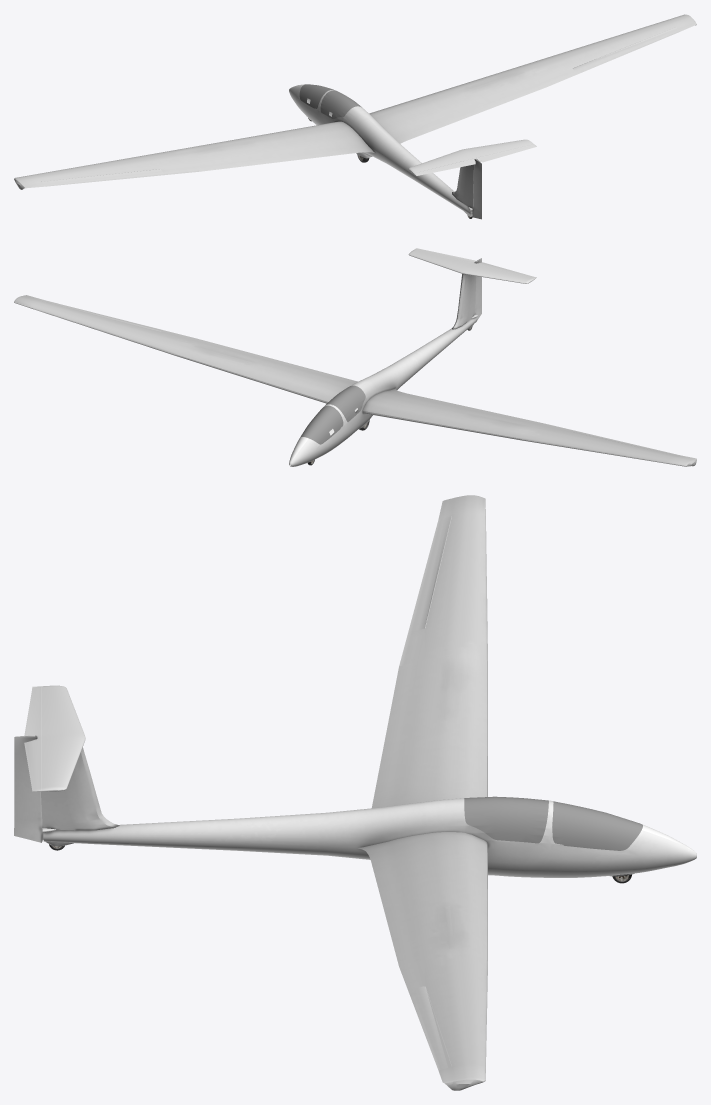
3 renders of one model, top to bottom at view 1: azimuth 30°, elevation 25°; view 2: azimuth 150°, elevation 25°; view 3: azimuth 270°, elevation 25°, orthographic. The views are drawn at different scales.
Visible parts, largest first — view 1: fuselage, wing_R1, wing_L1, wing_R3, wing_R2, wing_L3, wing_L2, vstabilizer, aileronR, aileronL, windowR, hstabilizer (+3 smaller); view 2: fuselage, wing_R3, wing_R1, wing_L1, wing_L3, wing_R2, wing_L2, vstabilizer, windowF, hstabilizer, windowR, elevator; view 3: fuselage, wing_L3, wing_L2, wing_R1, wing_L1, wing_R3, wing_R2, vstabilizer, windowR, windowF, hstabilizer, rudder (+4 smaller).
Part boxes in pixels (box(x1,y1,x2,y2)): fuselage: box(289, 84, 472, 215); wing_R1: box(369, 90, 470, 143); wing_L1: box(259, 121, 374, 161); wing_R3: box(523, 20, 675, 86); wing_R2: box(444, 65, 546, 115); wing_L3: box(34, 149, 200, 181); wing_L2: box(178, 135, 284, 171); vstabilizer: box(409, 139, 533, 173); aileronR: box(573, 27, 679, 74); aileronL: box(42, 169, 164, 186); windowR: box(320, 90, 361, 119); hstabilizer: box(452, 164, 474, 214); fuselage: box(289, 317, 477, 466); wing_R3: box(32, 301, 199, 355); wing_R1: box(255, 362, 357, 403); wing_L1: box(362, 388, 470, 426); wing_L3: box(521, 424, 675, 463); wing_R2: box(176, 339, 283, 381); wing_L2: box(442, 407, 545, 440); vstabilizer: box(408, 249, 534, 283); windowF: box(300, 405, 343, 444); hstabilizer: box(452, 263, 476, 329); windowR: box(325, 385, 365, 421); elevator: box(414, 248, 536, 278); fuselage: box(43, 798, 696, 877); wing_L3: box(399, 513, 487, 666); wing_L2: box(383, 654, 487, 746); wing_R1: box(357, 832, 487, 908); wing_L1: box(372, 732, 487, 808); wing_R3: box(399, 954, 487, 1066); wing_R2: box(383, 894, 487, 966); vstabilizer: box(41, 685, 85, 791); windowR: box(464, 796, 548, 843); windowF: box(552, 801, 642, 850); hstabilizer: box(41, 747, 119, 837); rudder: box(14, 735, 43, 842).
Bounding box in the file's own units: 16.91 × 2.06 × 8.33.
4 materials, 2 textured.
